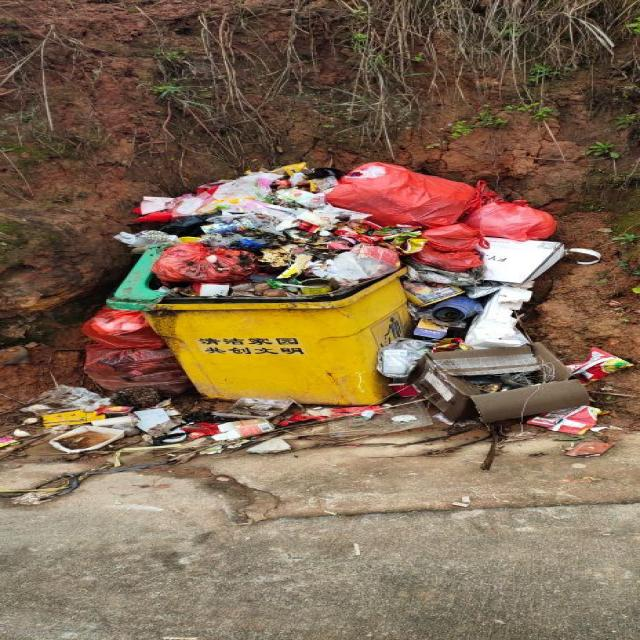garbage: (3, 160, 630, 460)
overflow: (106, 160, 408, 404)
